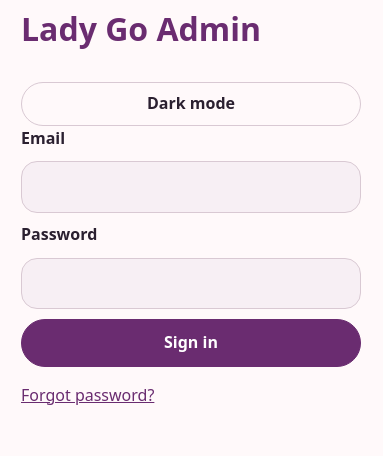
Test: Login › with MFA off › never asks for an authenticator code, even after a wrong password
Type "a@b.co" into the field labelled "Email" at (191, 187), box [21,161,361,213]
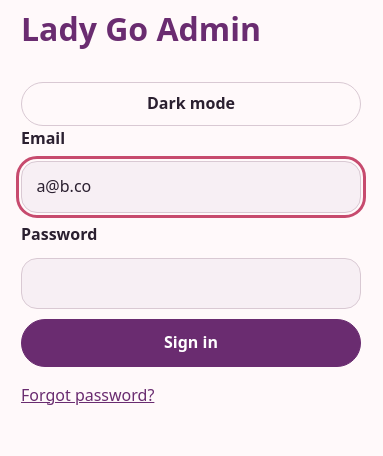
Type "pw-123456789" into the password field labelled "Password" at (191, 283), box [21,258,361,309]
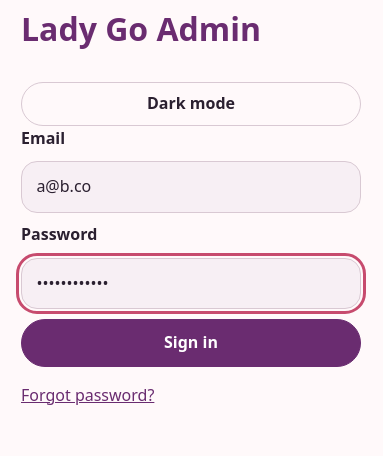
Click the button "Sign in" at (191, 343), box [21,319,361,367]
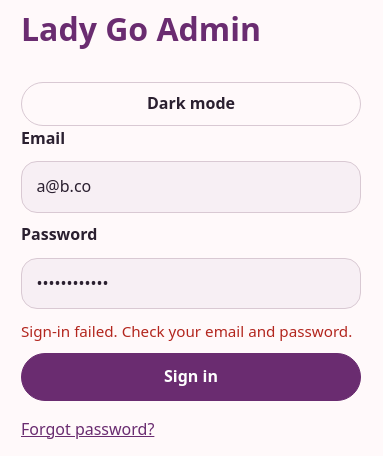
expect the message does not show "authenticator": met, box [21,319,361,343]
expect the message shows "email and password": met, box [21,321,352,341]
